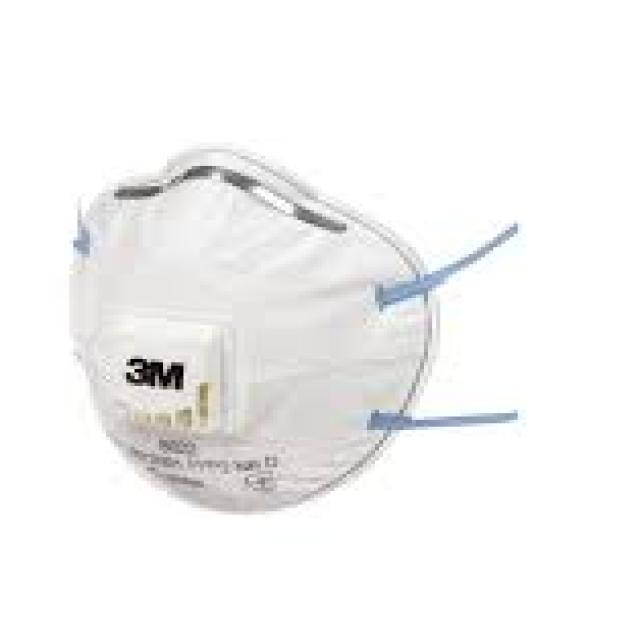organic: (47, 105, 493, 534)
